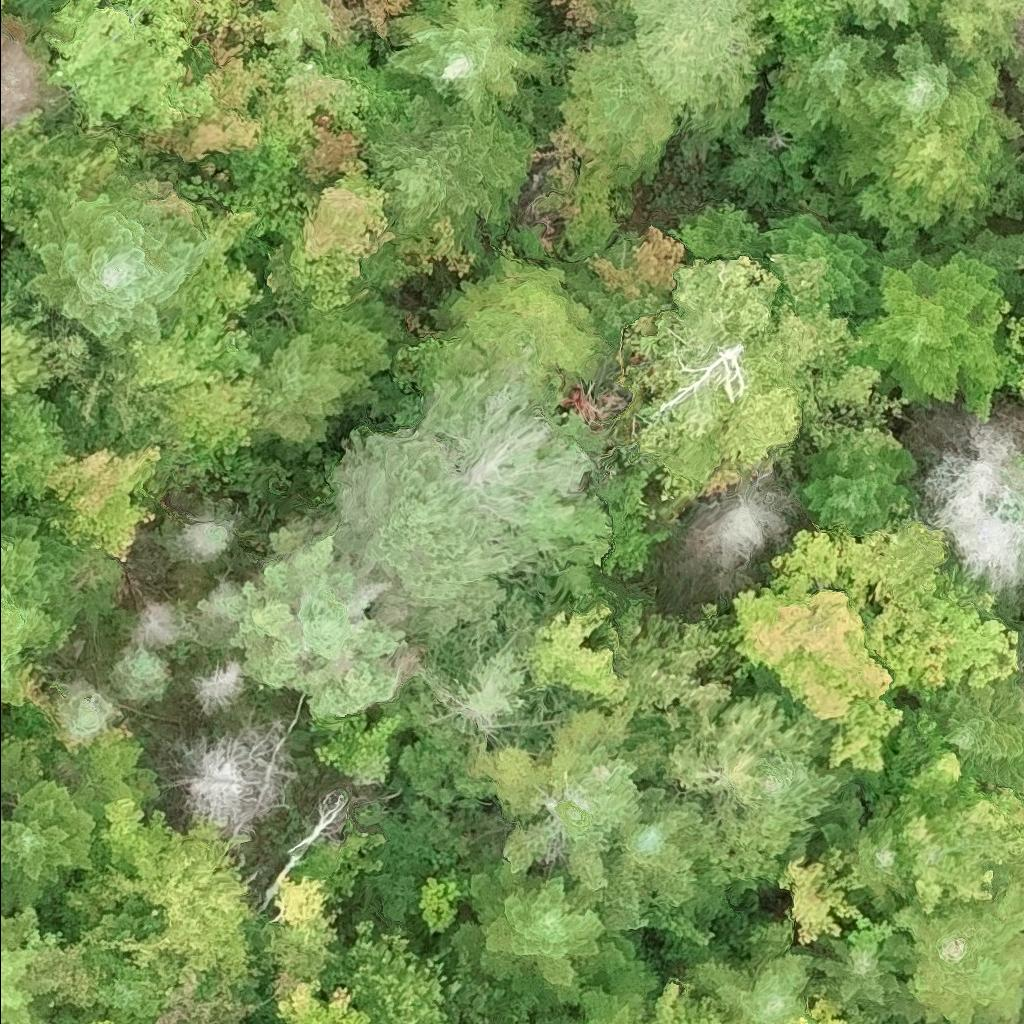crown: (125, 203, 278, 478), (330, 425, 515, 637), (218, 526, 410, 720), (57, 809, 254, 997), (658, 253, 822, 471), (729, 571, 905, 770), (21, 180, 208, 358), (414, 375, 591, 563), (853, 229, 1010, 423), (449, 857, 637, 1018), (433, 238, 612, 403), (361, 79, 533, 242), (45, 0, 256, 132), (834, 108, 1021, 240), (251, 293, 402, 455), (565, 788, 733, 933), (864, 565, 1023, 708), (663, 689, 803, 850), (894, 747, 1023, 914), (617, 0, 776, 133), (883, 882, 1023, 1023), (923, 414, 1023, 598), (388, 0, 542, 119), (0, 508, 89, 708), (142, 30, 274, 161), (664, 470, 803, 593), (758, 710, 868, 865), (846, 27, 999, 137), (289, 161, 399, 309), (170, 716, 299, 842), (765, 23, 896, 144), (0, 773, 106, 919), (565, 36, 679, 170), (317, 920, 464, 1023), (45, 443, 163, 564), (250, 43, 366, 164), (759, 209, 881, 324), (519, 604, 632, 707), (795, 446, 918, 538), (932, 675, 1023, 799), (677, 943, 818, 1023), (770, 528, 900, 613), (776, 843, 867, 945), (839, 803, 913, 916), (805, 933, 918, 1005), (587, 223, 688, 297), (310, 706, 404, 784), (549, 959, 661, 1023), (924, 0, 1023, 70), (0, 31, 67, 133), (753, 0, 851, 66), (668, 199, 767, 263), (877, 523, 948, 604), (0, 902, 46, 1023), (0, 296, 53, 400), (0, 110, 49, 221), (269, 972, 375, 1023), (86, 954, 163, 1023), (257, 0, 338, 60), (842, 0, 942, 46), (601, 514, 673, 577), (651, 977, 725, 1023), (194, 655, 247, 713), (810, 998, 852, 1023), (326, 0, 356, 34), (1010, 451, 1023, 478), (1014, 232, 1023, 267), (1015, 374, 1023, 399), (0, 469, 3, 512), (793, 1015, 809, 1023), (90, 1019, 115, 1023), (1020, 271, 1023, 281), (1021, 293, 1023, 303)
